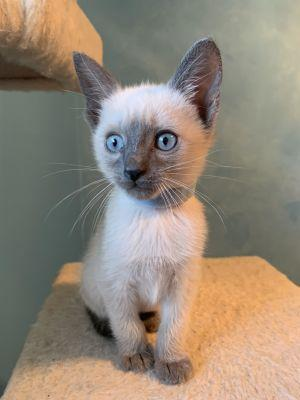siamese: (63, 27, 236, 212)
